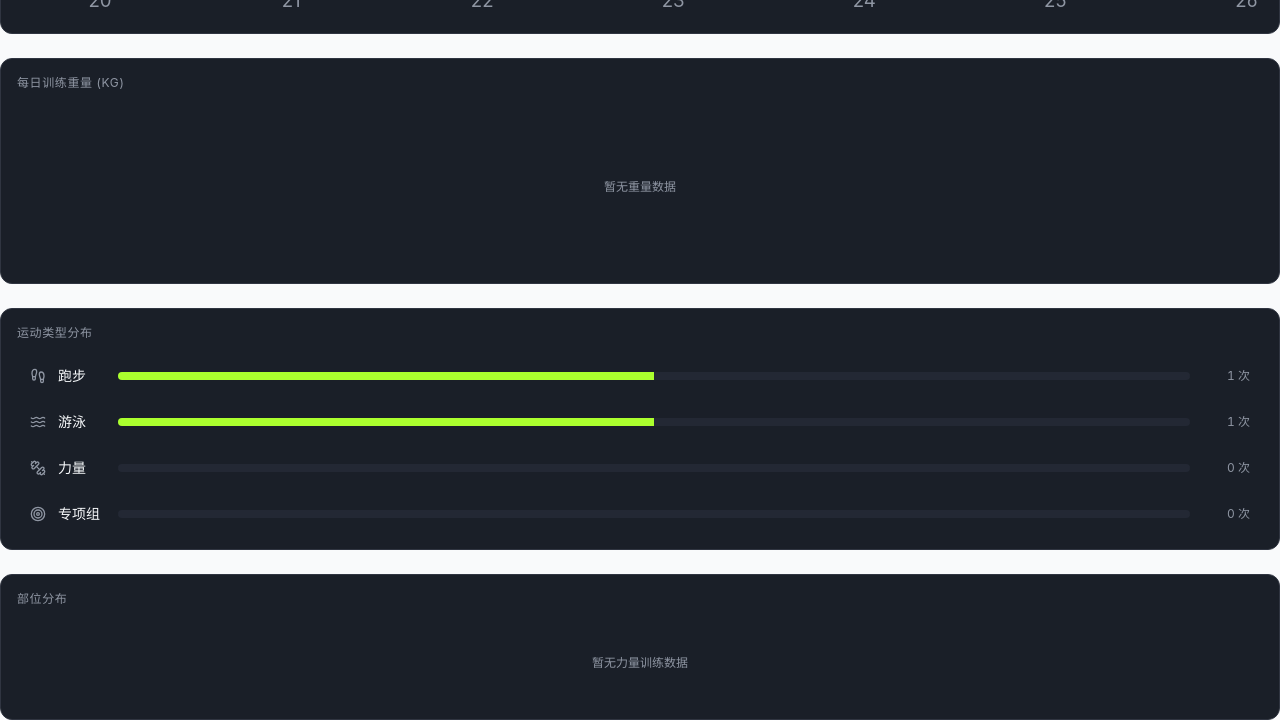
Test: FitStats 增强:自定义区间 / 环比 / 类型筛选 › 类型筛选:点击分布行只看该类型,再点还原;分布计数不受筛选影响
This screenshot has width=1280, height=720.
(page scrolled)
Click the button with aria-label "筛选跑步": x=640, y=376 top-left (17, 357), bottom-right (1263, 395)
(page scrolled)
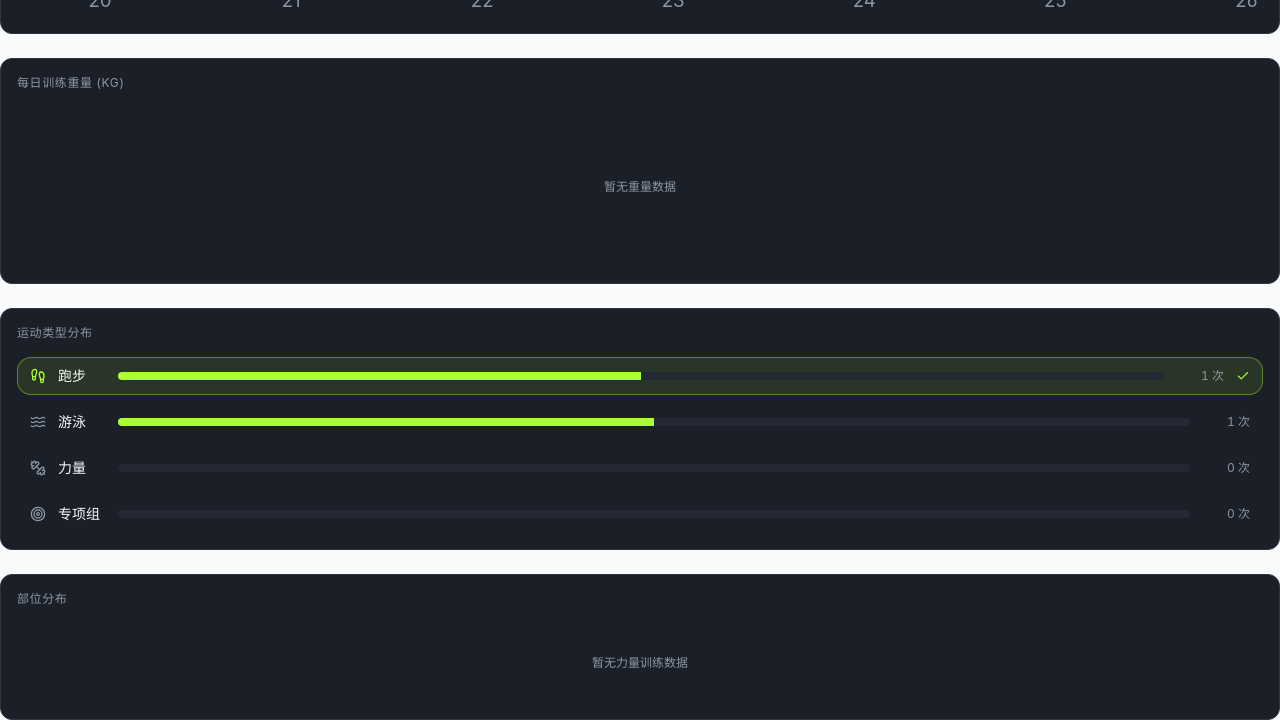
Expected: the text "1 次" is shown 2 times, top-left (1201, 368), bottom-right (1224, 383); top-left (1227, 414), bottom-right (1250, 429)
Now the button with aria-label "筛选跑步" is pressed
Click the button with aria-label "筛选跑步": x=640, y=376 top-left (17, 357), bottom-right (1263, 395)
(page scrolled)
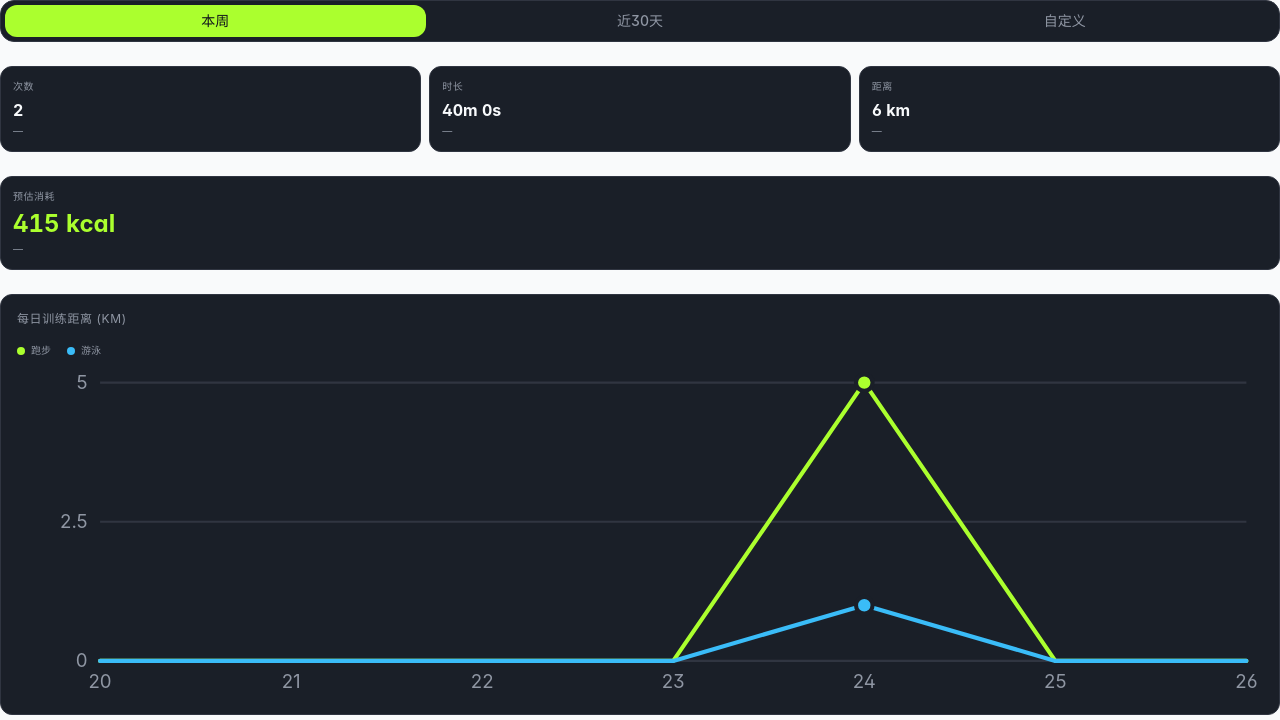
Now the text "6 km" is shown, box top-left (872, 100), bottom-right (910, 120)
